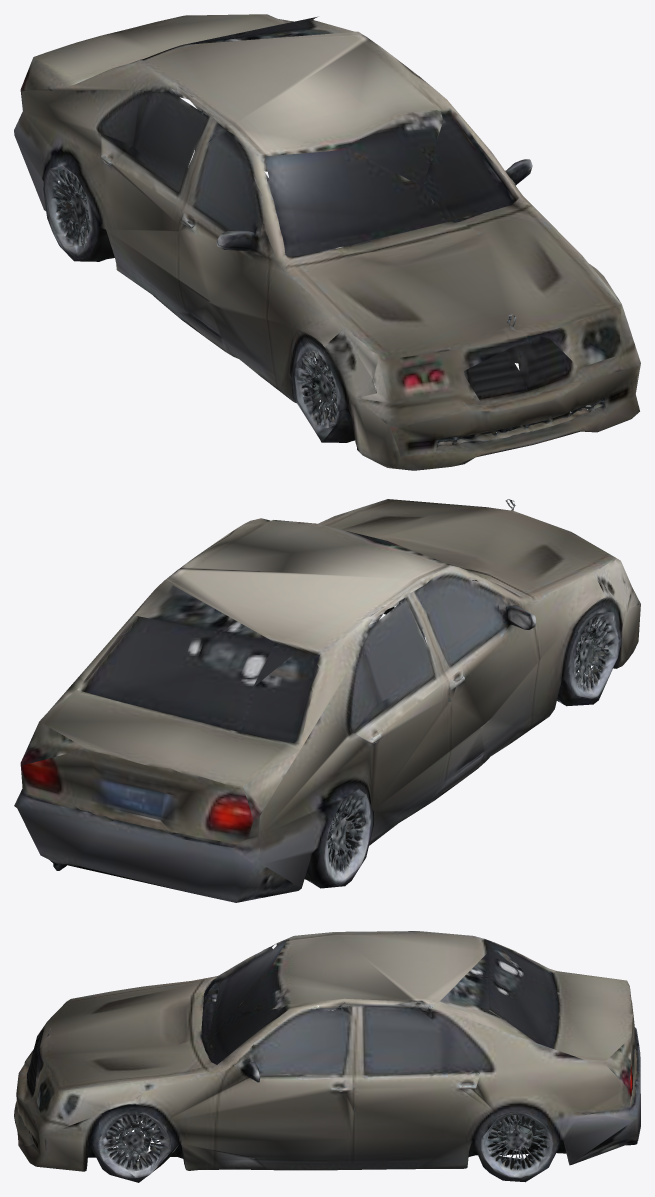
File: brigade_car.glb
3 views of the same model, one above another, from view 1: azimuth 30°, elevation 25°; view 2: azimuth 150°, elevation 25°; view 3: azimuth 270°, elevation 25° (orthographic). The views are drawn at different scales.
Visible parts, largest first — view 1: tripo_node_307dbe80; view 2: tripo_node_307dbe80; view 3: tripo_node_307dbe80.
Boxes of the visible parts, <box> form: tripo_node_307dbe80: <box>14,14,640,470</box>; tripo_node_307dbe80: <box>14,499,640,902</box>; tripo_node_307dbe80: <box>14,931,640,1182</box>.
Bounding box in the file's own units: 0.4375 × 0.2854 × 0.9719.
1 material, 1 textured.
